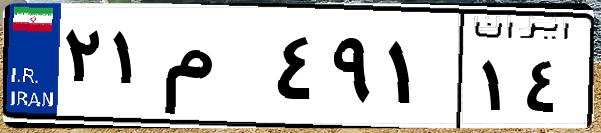1: (385, 28, 445, 110), (475, 38, 525, 113), (110, 28, 158, 98)
2: (57, 26, 110, 100)
4: (270, 28, 330, 110), (525, 38, 570, 115)
9: (330, 28, 385, 110)
م: (158, 20, 270, 120)
